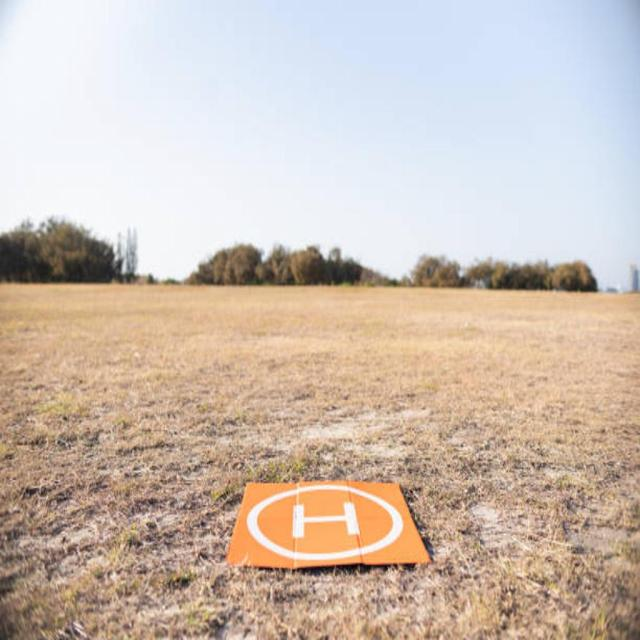helipad: (245, 484, 404, 560)
